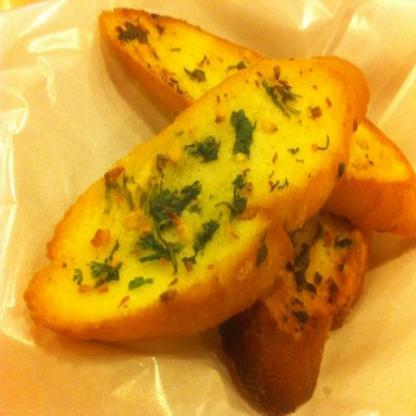toast bread: (29, 55, 365, 344), (99, 5, 416, 242), (217, 218, 368, 415)
